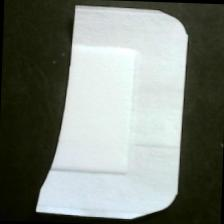Cut: (35, 3, 192, 221)
